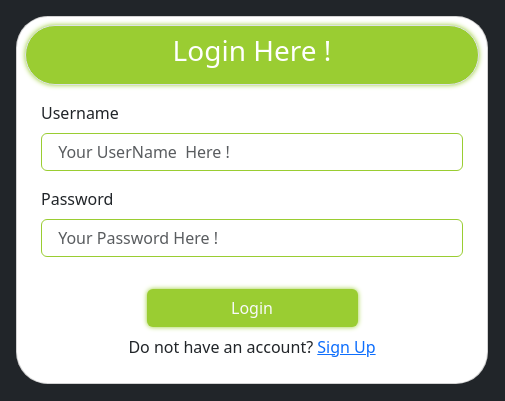
Test: Login() Login method › Edge Cases › should disable login button when loading
The width and height of the screenshot is (505, 401).
Type "testuser" into the field labelled "Username".
click(252, 152); type("testuser")  # box [41,133,463,171]
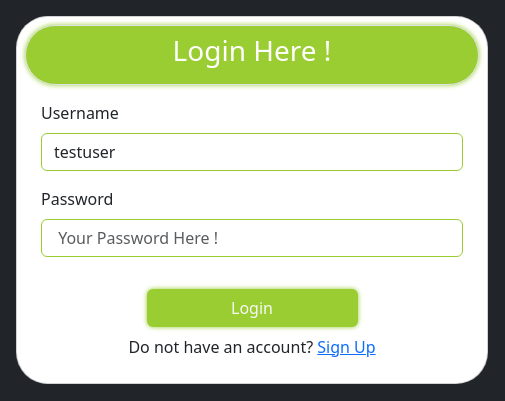
Type "password123" into the password field labelled "Password".
click(252, 238); type("password123")  # box [41,219,463,257]
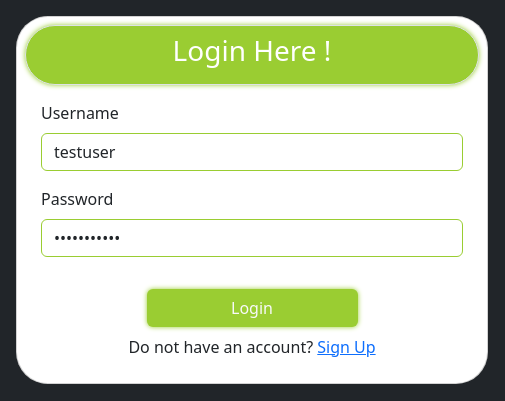
Click the button "Login".
click(252, 308)  # box [146,289,358,327]
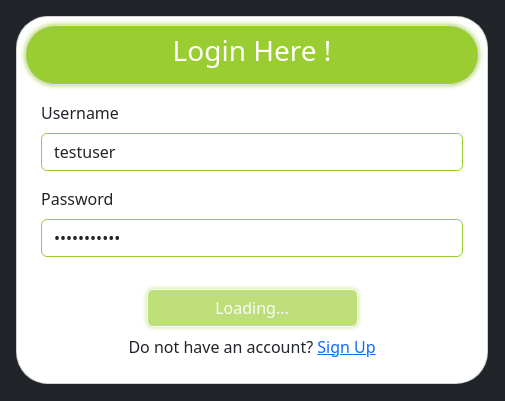
Expected: the button "Loading..." is disabled, [146,289,358,327]
